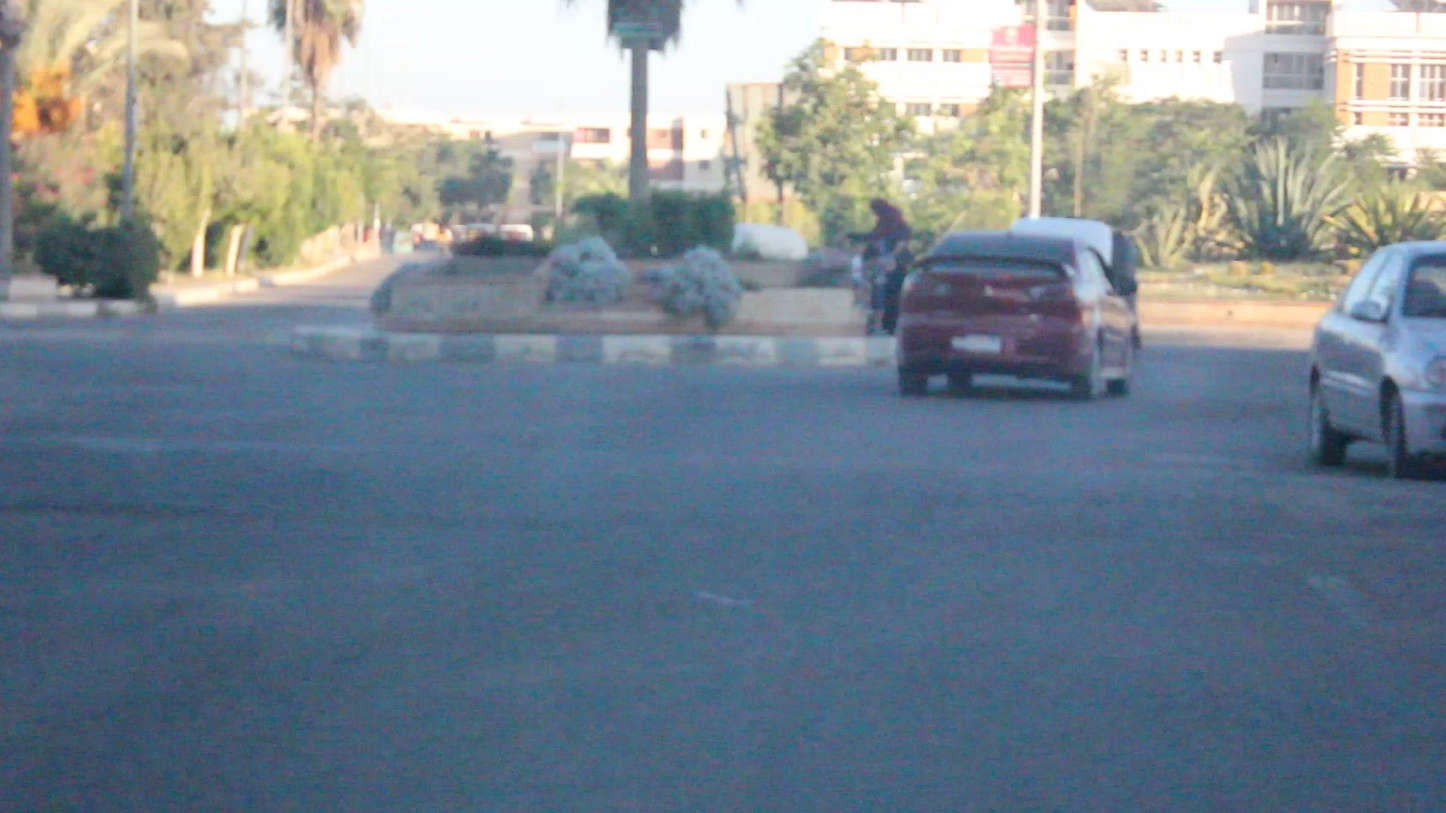Bump: (11, 425, 1422, 540)
